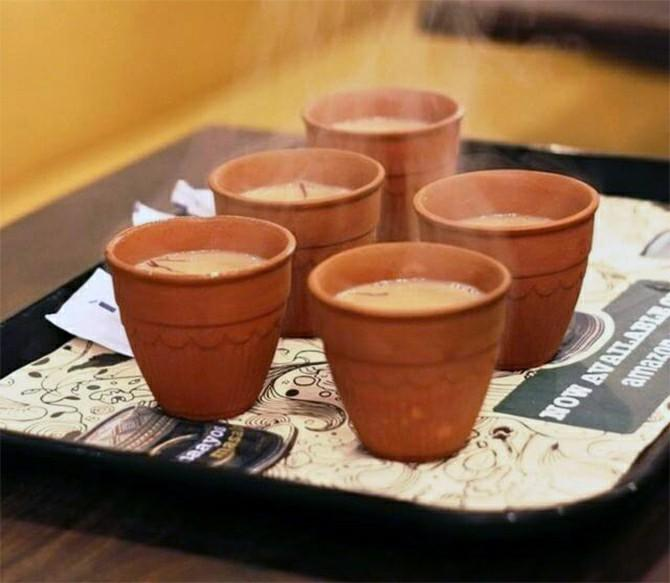Chai: (334, 281, 490, 311), (127, 247, 272, 273), (241, 177, 351, 199), (439, 209, 561, 228), (323, 117, 424, 131)
